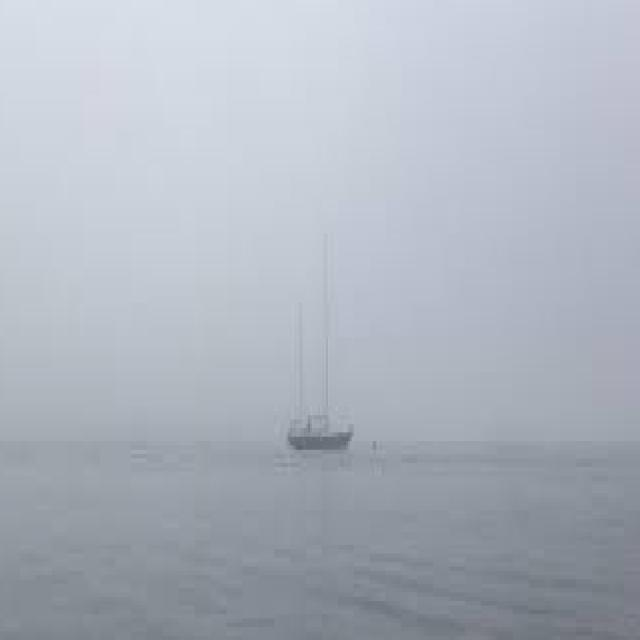fishing boat: (284, 375, 354, 451)
